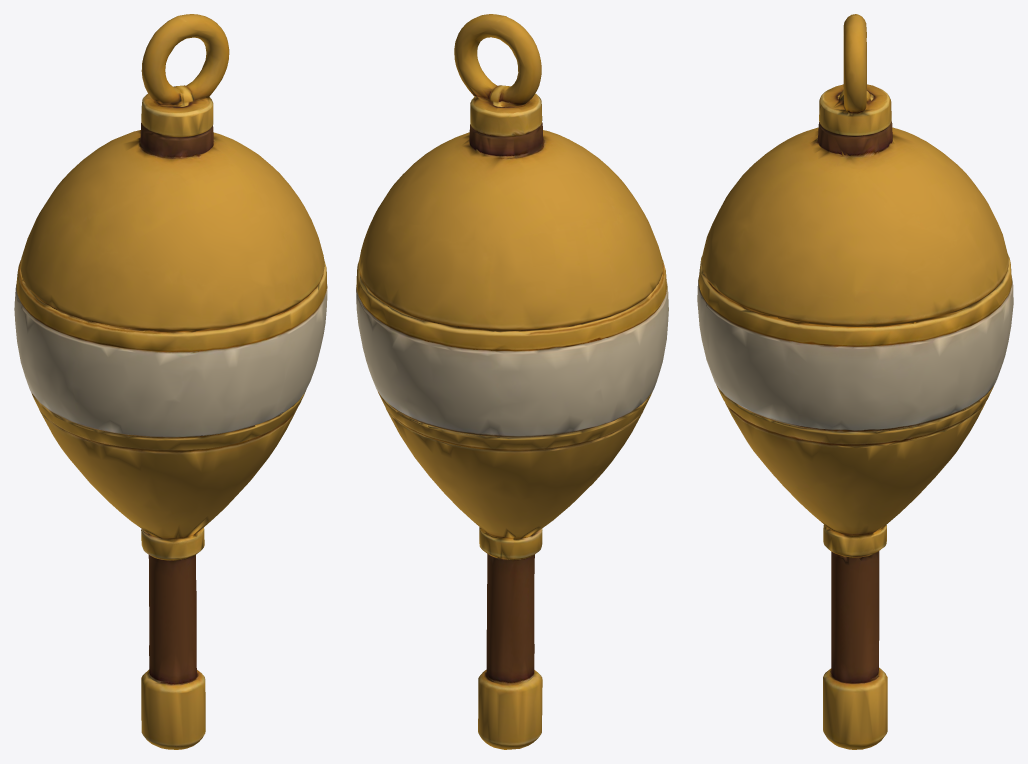
Rendered from gear-float6.glb.
3 renders of one model, left to right at view 1: azimuth 30°, elevation 25°; view 2: azimuth 150°, elevation 25°; view 3: azimuth 270°, elevation 25°, orthographic.
Visible parts, largest first — view 1: tripo_node_5a8fe7bc-5200-4588-8a6f-aeed84fe0277; view 2: tripo_node_5a8fe7bc-5200-4588-8a6f-aeed84fe0277; view 3: tripo_node_5a8fe7bc-5200-4588-8a6f-aeed84fe0277.
Part boxes in pixels (x1,y1,x2,y2): tripo_node_5a8fe7bc-5200-4588-8a6f-aeed84fe0277: [14, 14, 327, 749]; tripo_node_5a8fe7bc-5200-4588-8a6f-aeed84fe0277: [356, 14, 668, 749]; tripo_node_5a8fe7bc-5200-4588-8a6f-aeed84fe0277: [697, 14, 1013, 749].
Bounding box in the file's own units: 0.3919 × 1 × 0.3924.
Materials: 1 (1 with a texture image).
